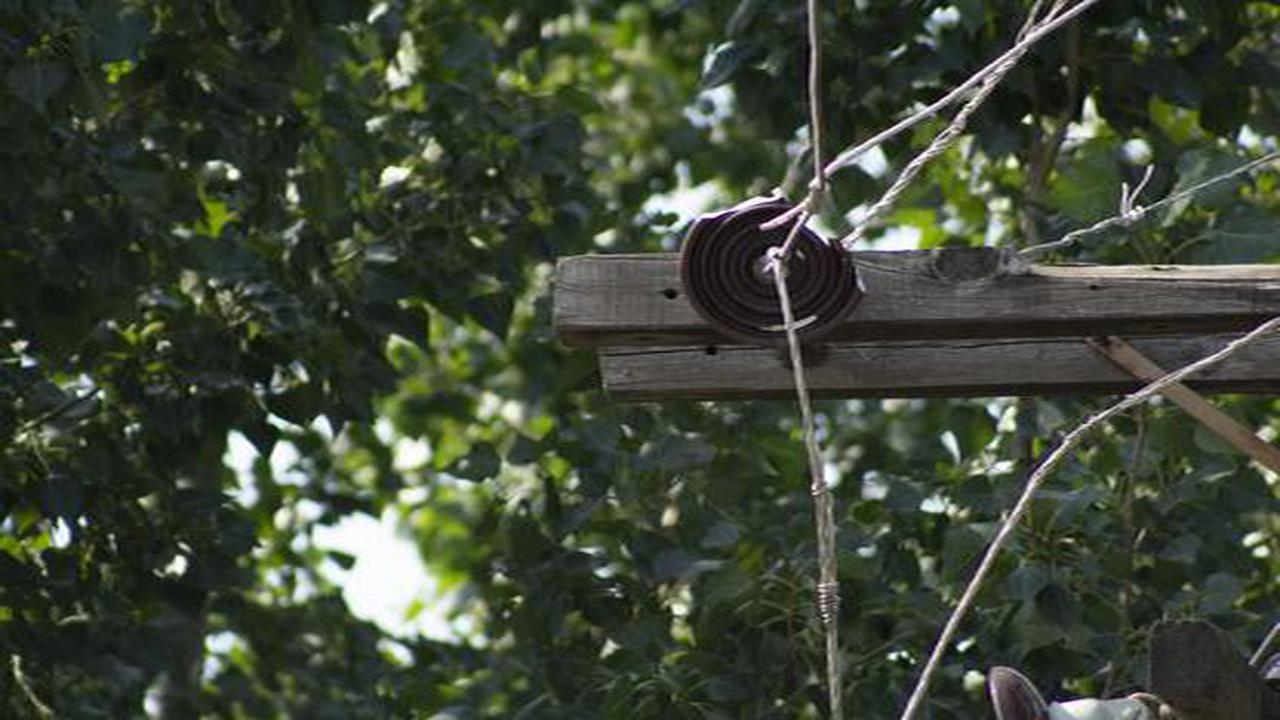defect_disc: (677, 187, 871, 350)
